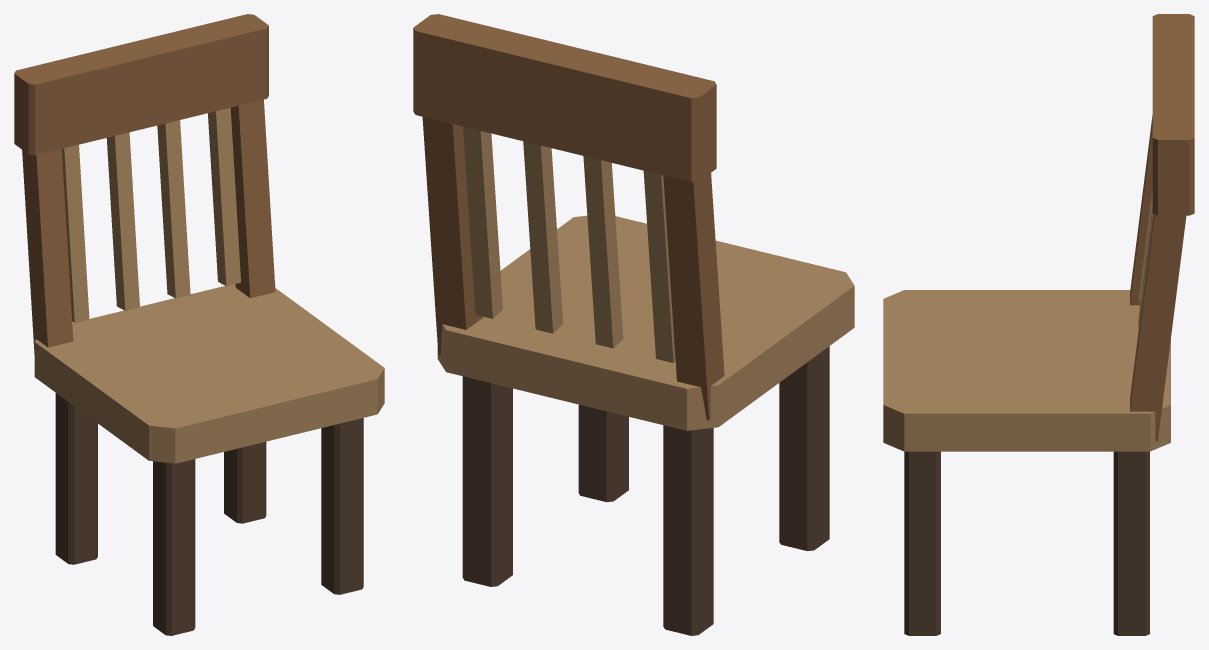
File: chair_wood.glb
3 renders of one model, left to right at view 1: azimuth 30°, elevation 25°; view 2: azimuth 150°, elevation 25°; view 3: azimuth 270°, elevation 25°, orthographic. The views are drawn at different scales.
Parts seen in each view (by area): view 1: geometry; view 2: geometry; view 3: geometry.
Boxes of the visible parts, bbox=[...] form: geometry: bbox=[14, 14, 384, 635]; geometry: bbox=[413, 14, 854, 635]; geometry: bbox=[883, 14, 1194, 635].
Size of the model in its own units: 0.57 by 1.07 by 0.595.
